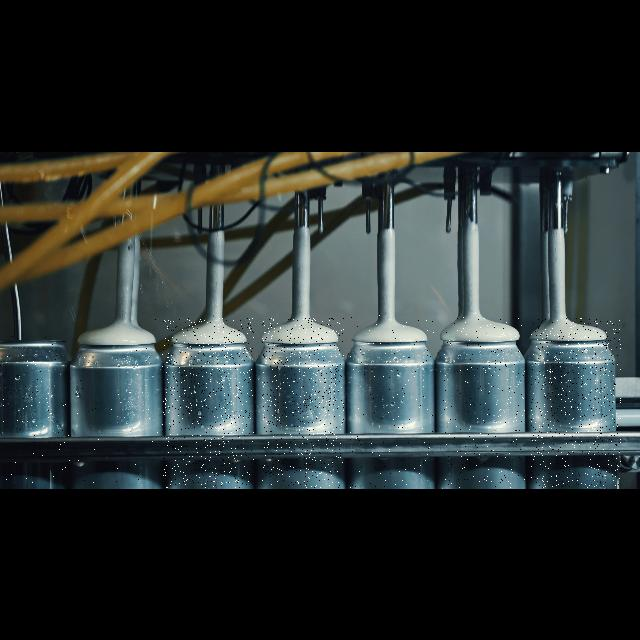empty: (0, 336, 72, 488)
full: (162, 318, 254, 488), (531, 318, 621, 488), (350, 312, 434, 488), (443, 316, 525, 488), (76, 318, 158, 488), (262, 318, 344, 488)
